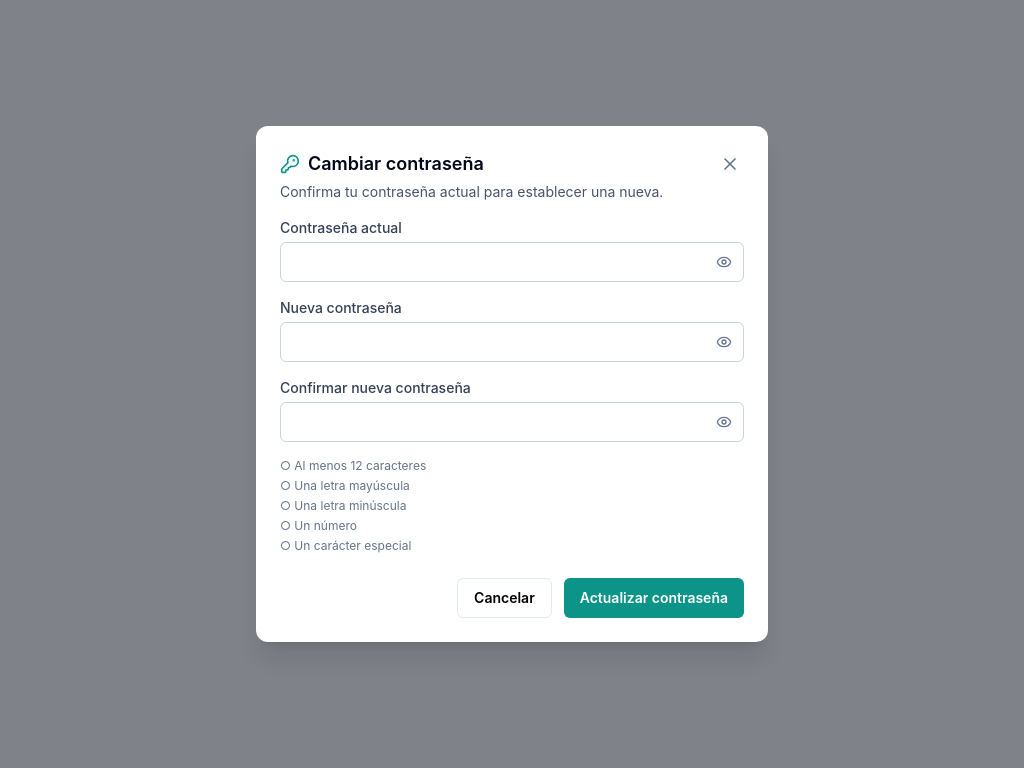
Test: ChangePasswordDialog › submits only password values and clears the fields after success
Type "Actual.Clave2026!" into the password field labelled "Contraseña actual" at (512, 262), box [280,242,744,282]
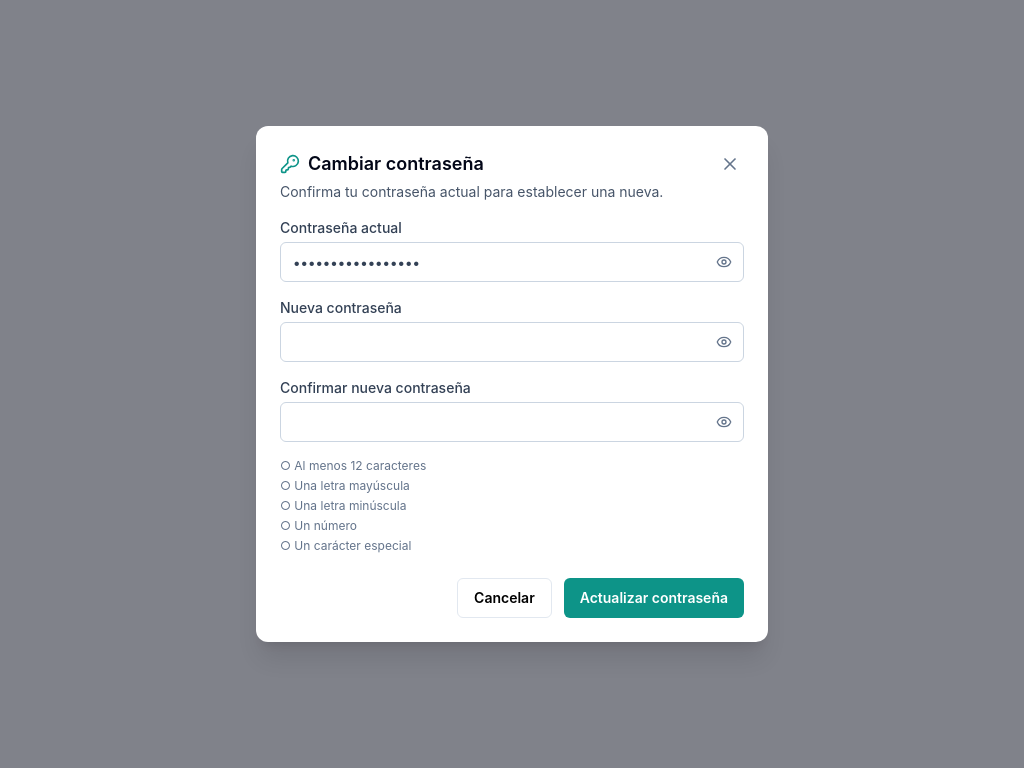
Type "Nueva.Clave2026!" into the password field labelled "Nueva contraseña" at (512, 342), box [280,322,744,362]
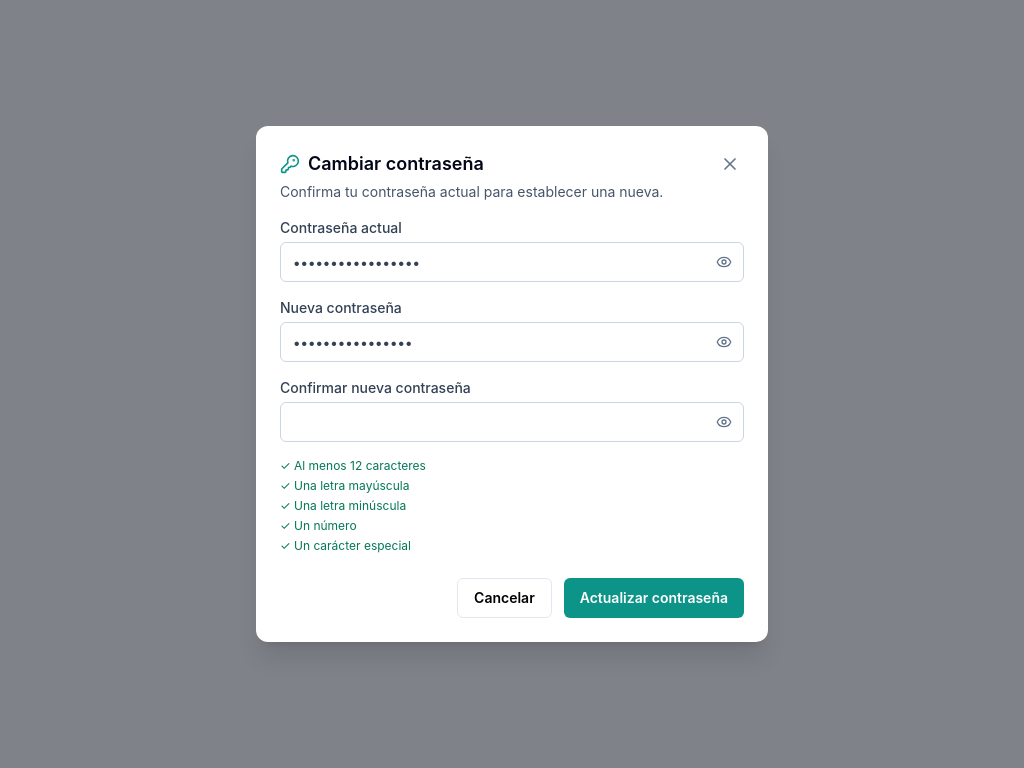
Type "Nueva.Clave2026!" into the password field labelled "Confirmar nueva contraseña" at (512, 422), box [280,402,744,442]
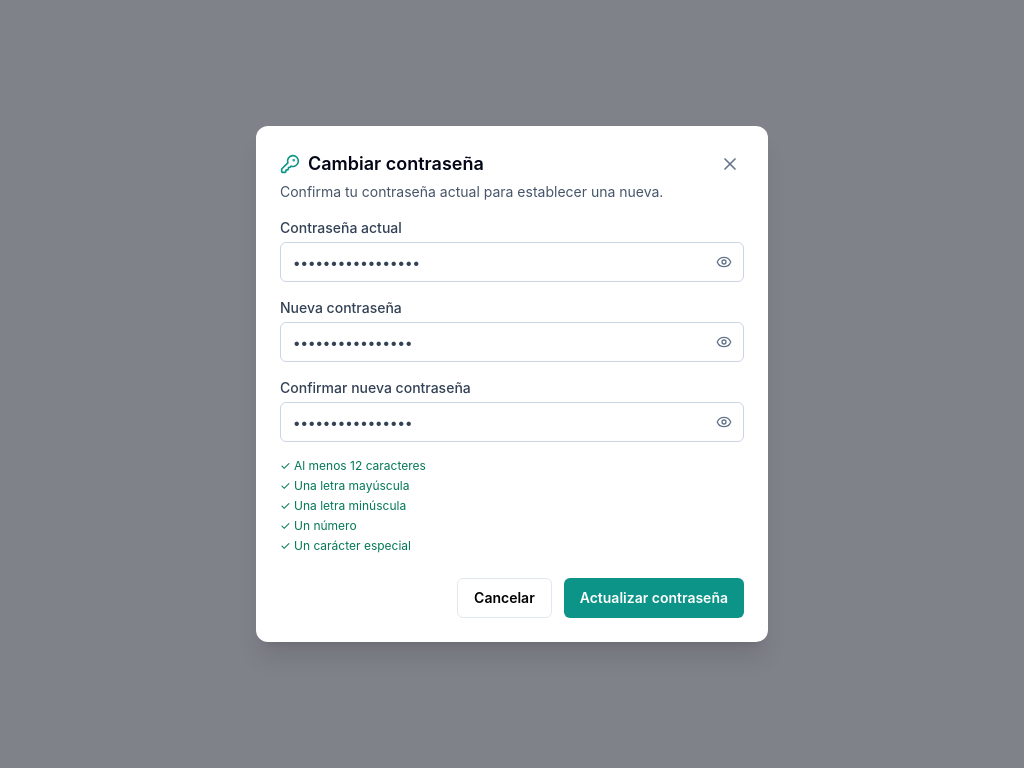
Click the button "Actualizar contraseña" at (654, 598), box [564,578,744,618]
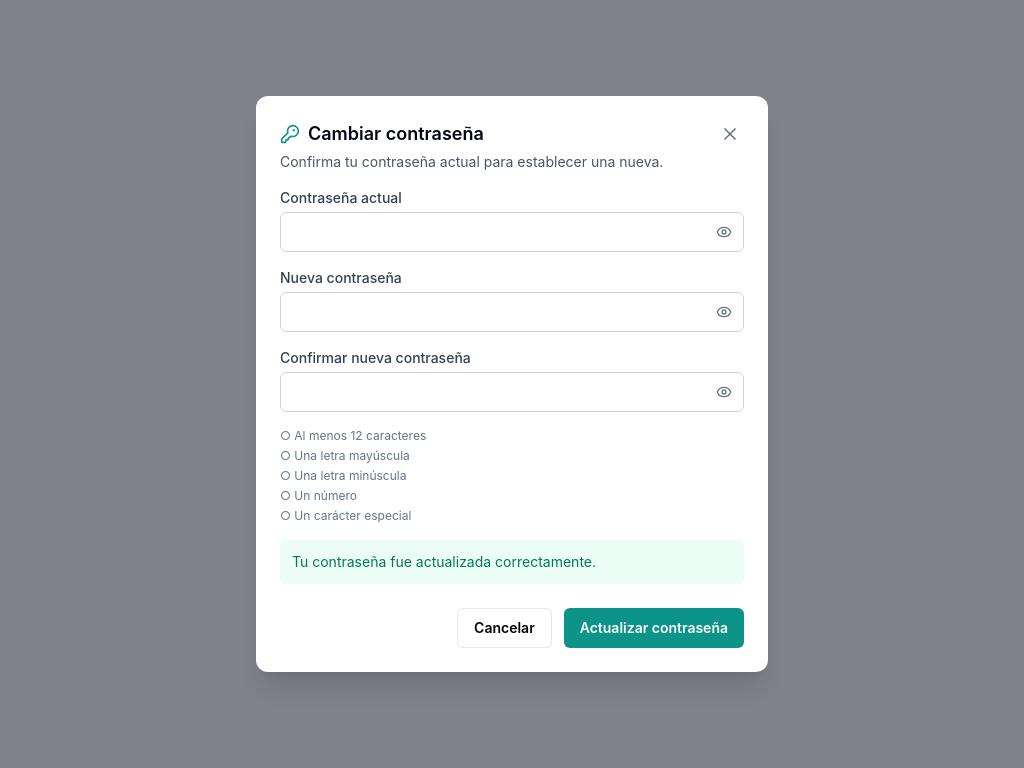
Now the text "Tu contraseña fue actualizada correctamente." is shown, box [280,540,744,584]
Now the password field labelled "Contraseña actual" is empty, box [280,212,744,252]
Now the password field labelled "Nueva contraseña" is empty, box [280,292,744,332]
